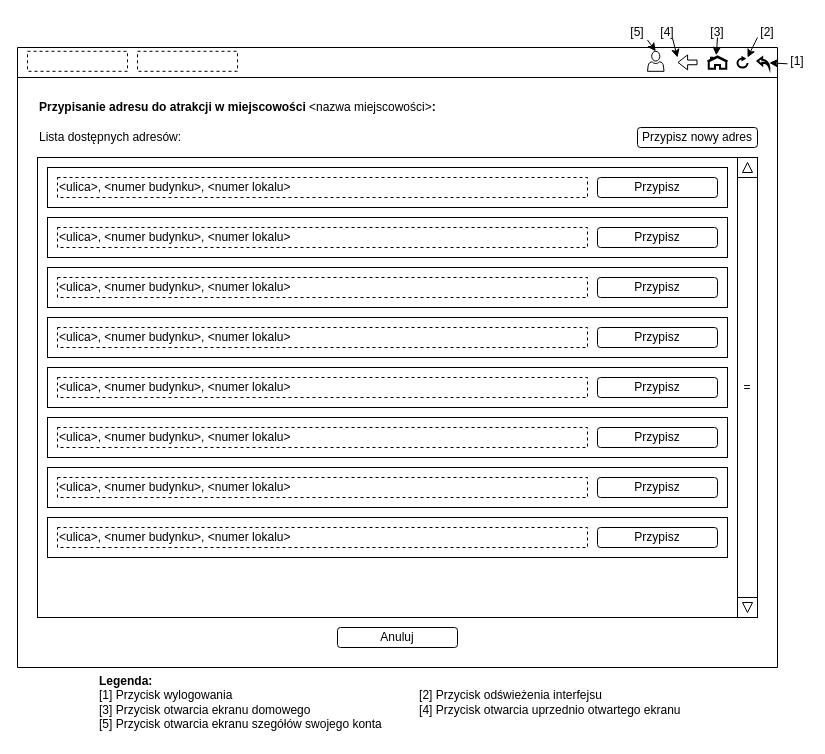
The diagram is 825 pixels wide and 754 high, and some of its shapes have lost their labels. Here are the shapes that lost their labels. From the top down, the box of each, then its label:
(26, 50, 128, 71): login
(136, 50, 238, 71): rola
